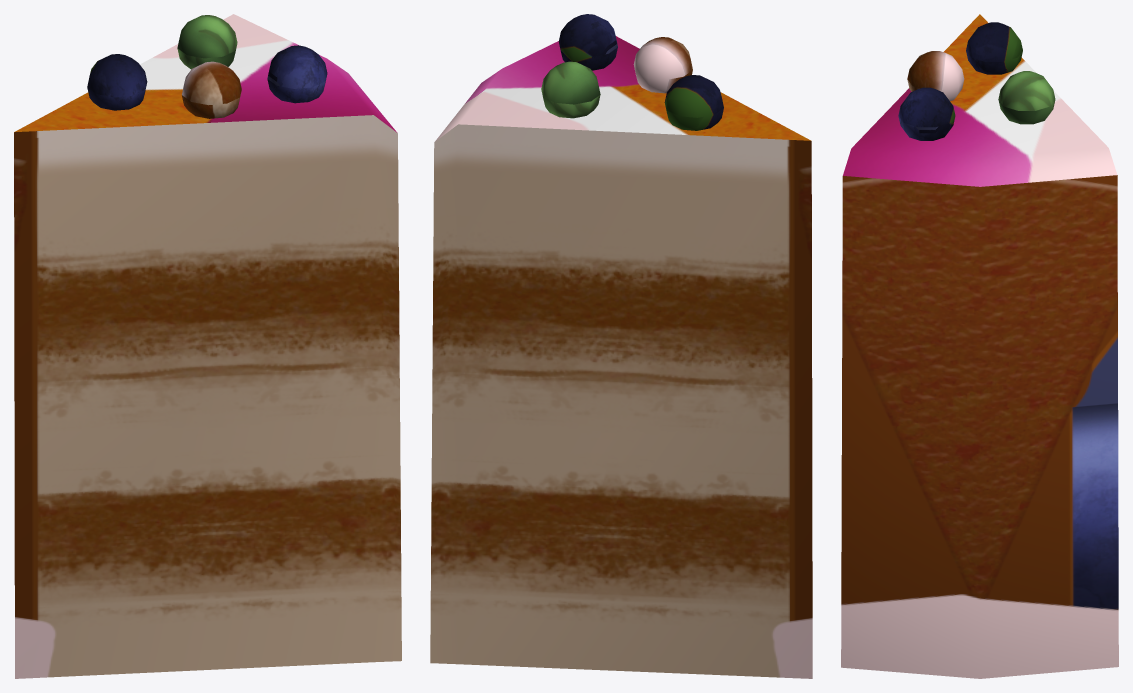
The model's file is Wedding_03_Slice_Top.fbx.
3 renders of one model, left to right at view 1: azimuth 30°, elevation 25°; view 2: azimuth 150°, elevation 25°; view 3: azimuth 270°, elevation 25°, orthographic. The views are drawn at different scales.
Parts seen in each view (by area): view 1: Wedding_03_Slice_Top; view 2: Wedding_03_Slice_Top; view 3: Wedding_03_Slice_Top.
Part boxes in pixels (x1,y1,x2,y2): Wedding_03_Slice_Top: [14, 14, 401, 678]; Wedding_03_Slice_Top: [430, 14, 812, 678]; Wedding_03_Slice_Top: [841, 14, 1118, 678].
Bounding box in the file's own units: 38.11 × 63.9 × 29.18.
